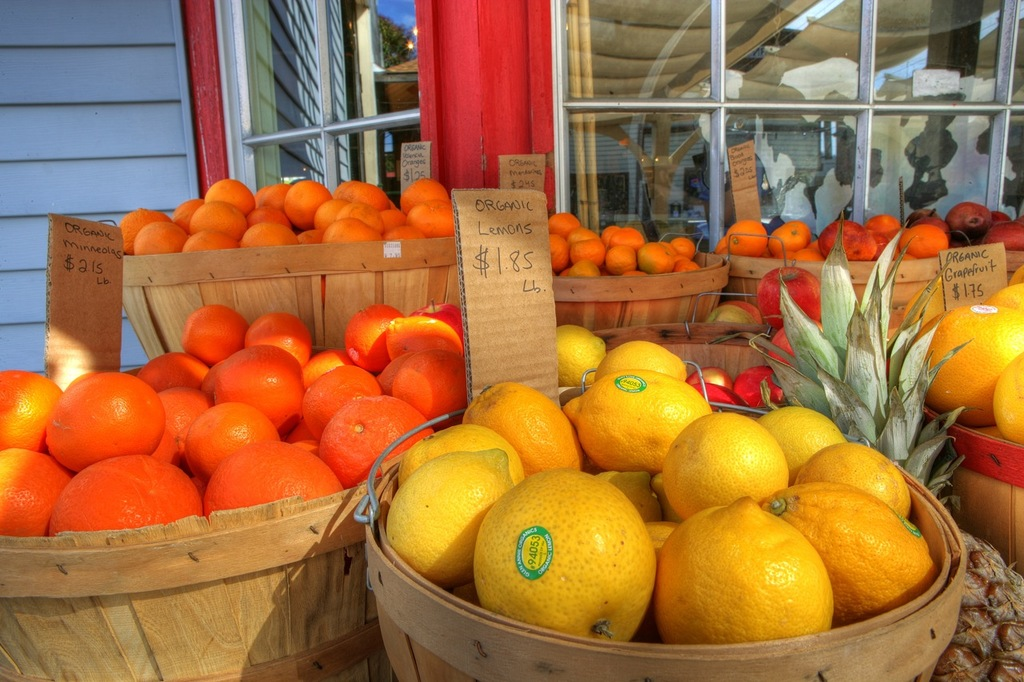Ripe: (40, 461, 210, 530), (206, 443, 344, 524), (324, 395, 427, 486), (44, 381, 158, 461), (186, 401, 278, 474), (217, 348, 298, 429), (395, 348, 474, 423), (0, 453, 64, 537), (300, 368, 373, 441), (0, 368, 58, 451), (186, 300, 242, 362), (135, 346, 202, 391), (245, 312, 306, 354), (126, 217, 182, 257), (190, 204, 242, 236), (286, 184, 326, 224), (337, 181, 391, 208), (242, 216, 294, 243), (907, 224, 955, 253), (214, 177, 253, 212), (322, 221, 383, 243), (266, 180, 302, 213), (606, 237, 642, 267), (779, 213, 807, 251), (174, 232, 226, 251), (733, 217, 771, 241), (329, 196, 367, 216), (852, 232, 878, 261), (578, 240, 606, 265), (178, 197, 198, 225), (645, 247, 672, 267), (550, 212, 566, 236), (674, 241, 696, 257), (554, 237, 562, 253)
